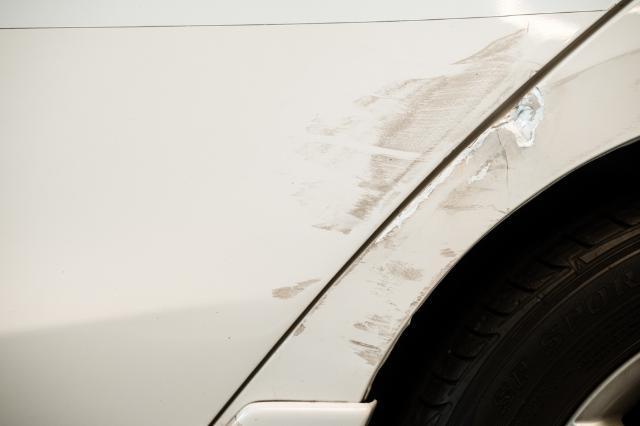scratch: (296, 78, 566, 366), (289, 26, 530, 235), (273, 278, 320, 300)
